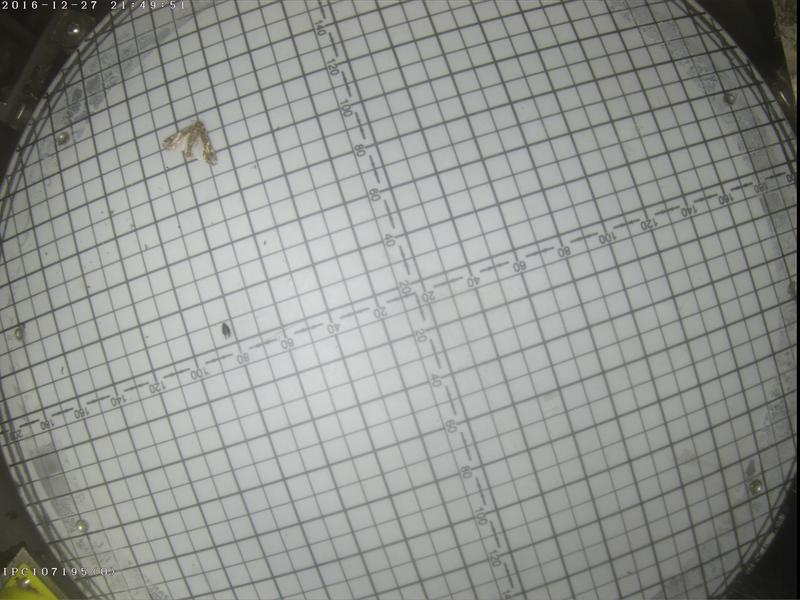Spodoptera litura: (163, 120, 218, 166)
